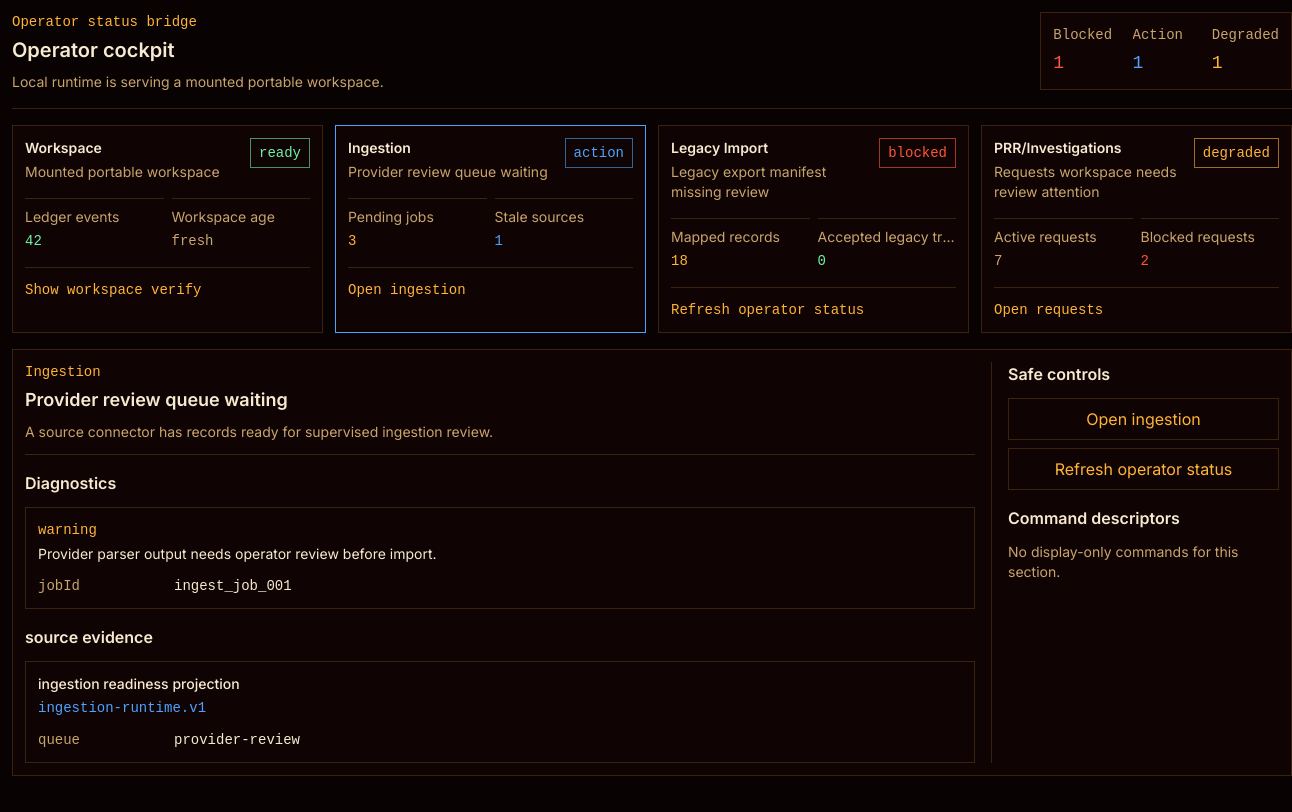
Test: OperatorCockpit › selects a band and shows diagnostics and source evidence in the detail panel
Click the tab "Legacy Import" at x=720, y=148, box [658,125,969,333]
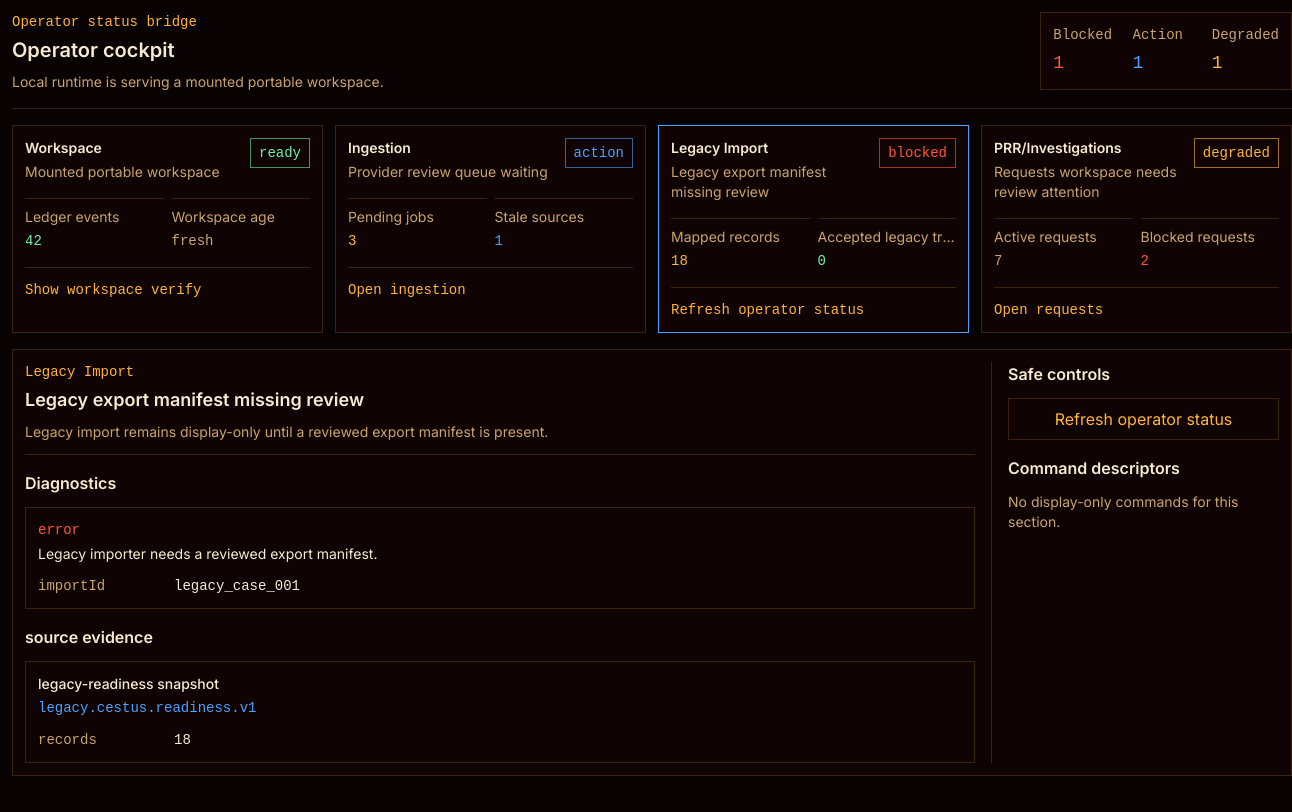
Result: the text "Legacy importer needs a reviewed export manifest." is shown at [38,545,377,562]
Result: the text "legacy-readiness snapshot" is shown at [38,675,219,692]
Result: the text "legacy.cestus.readiness.v1" is shown at [38,700,256,716]
